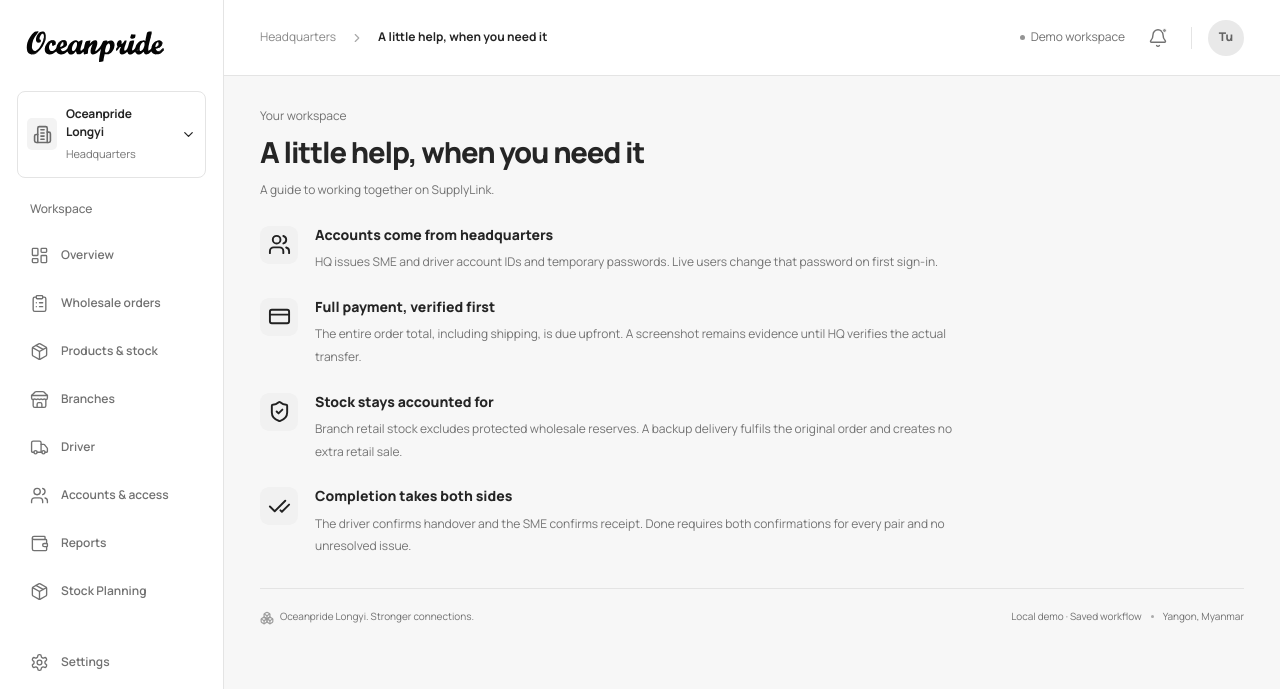
identifies a backup reserve shortage separately from total on-hand stock
Click the button named "Notifications, 1 action items" at (1158, 38), box [1141, 20, 1175, 54]
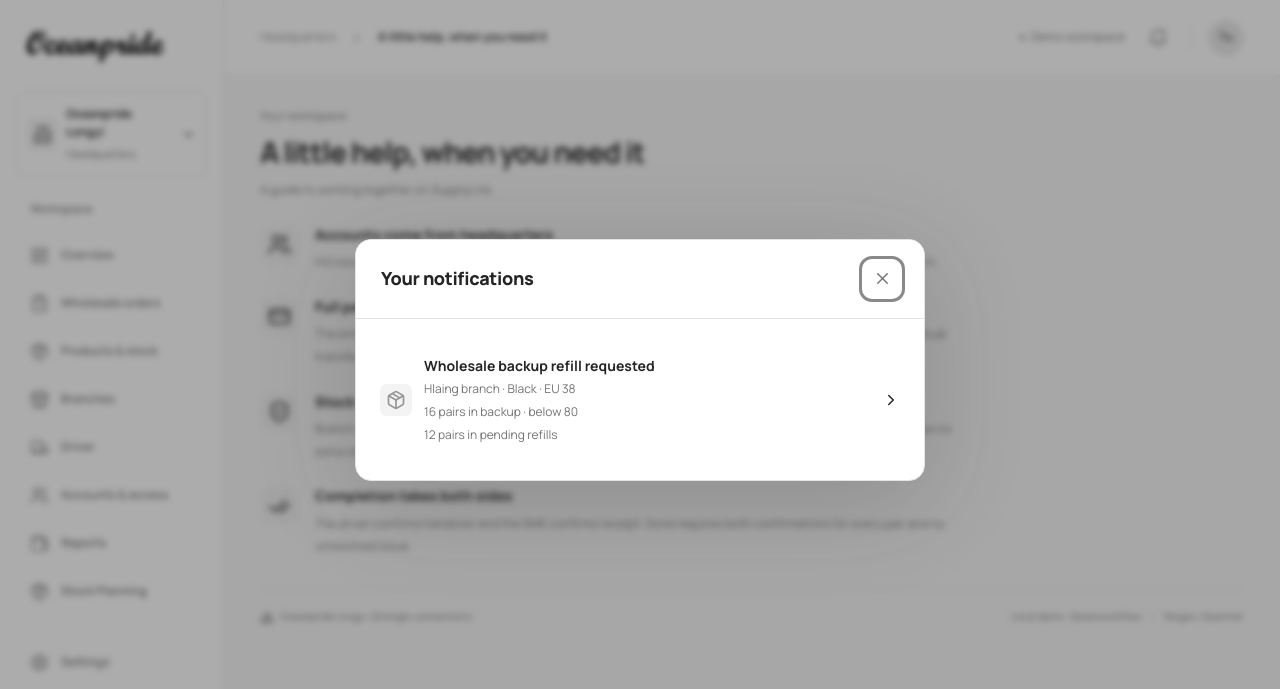
Expected: the dialog shows "Wholesale backup refill requested", [380, 343, 900, 456]
Expected: the dialog shows "16 pairs in backup · below 80", [355, 239, 925, 481]
